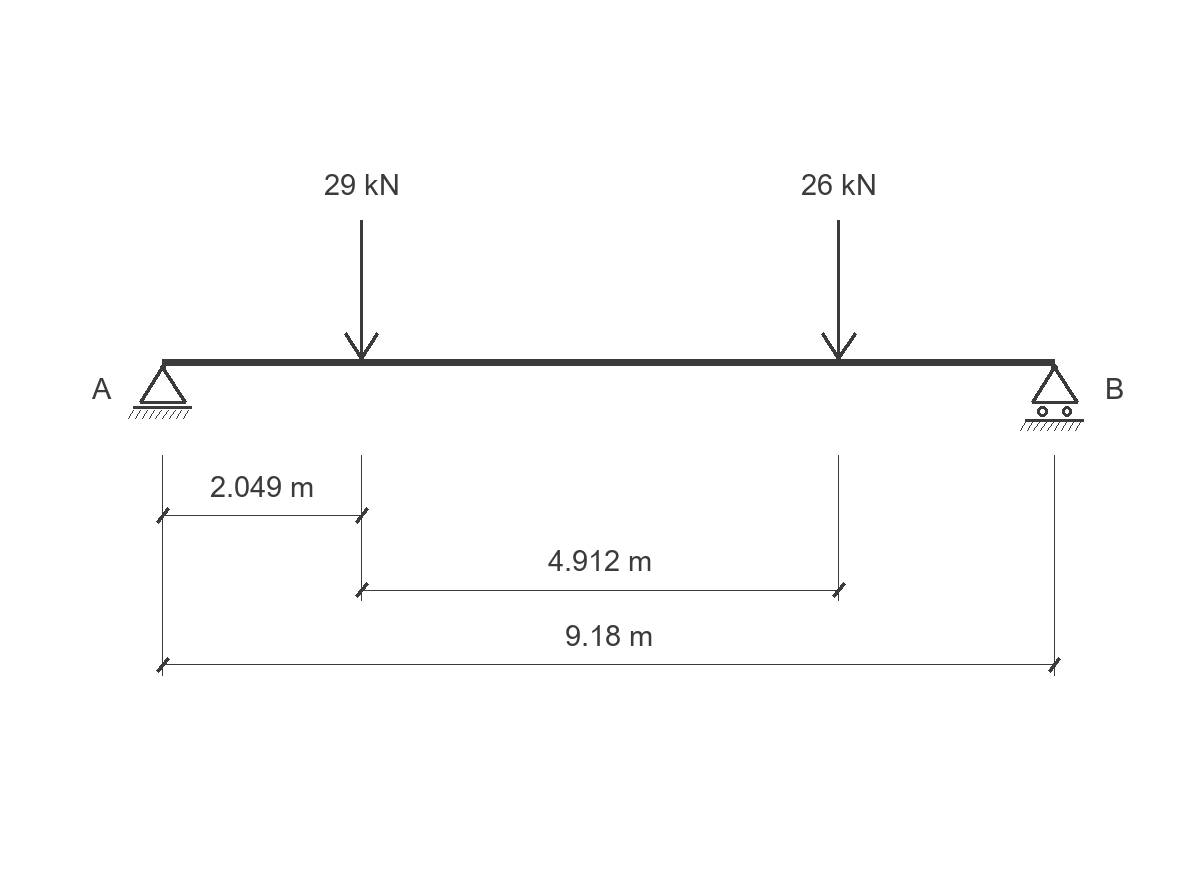pin_support: (128, 364, 192, 419)
point_load: (821, 220, 857, 360), (344, 220, 379, 360)
roller_support: (1020, 364, 1084, 431)
